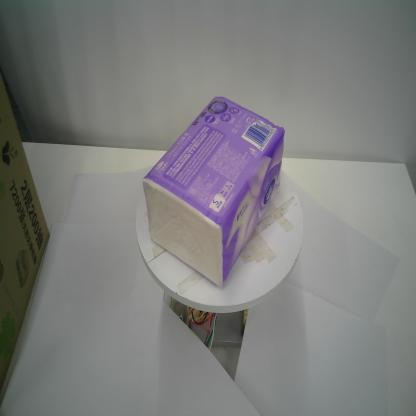Tissue: (139, 92, 286, 287)
